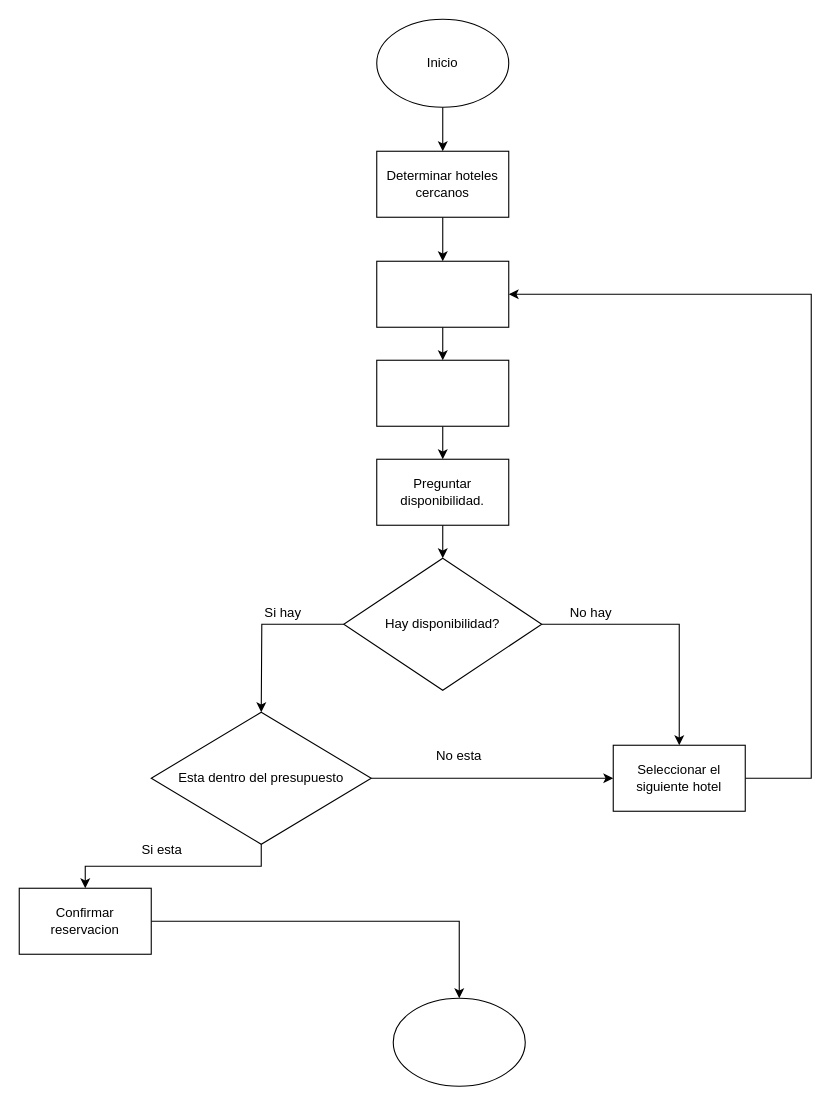
This 839x1106 diagram has some shape labels left out. The shapes that lost their labels are listed below. From the top down, each one's centre as x and y in pixels, then its label:
At point (442, 293): "Obtener los contactos".
At point (442, 392): "Llamar al hotel".
At point (458, 1041): "Fin".
